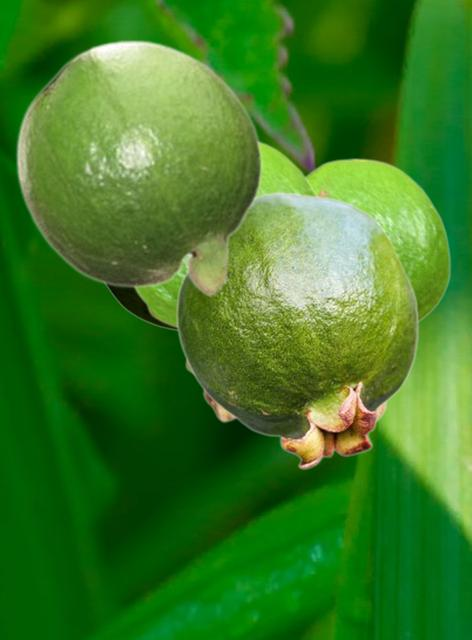guava: (175, 192, 418, 469), (14, 38, 262, 297), (133, 141, 317, 422), (306, 157, 450, 422), (105, 286, 175, 330)
